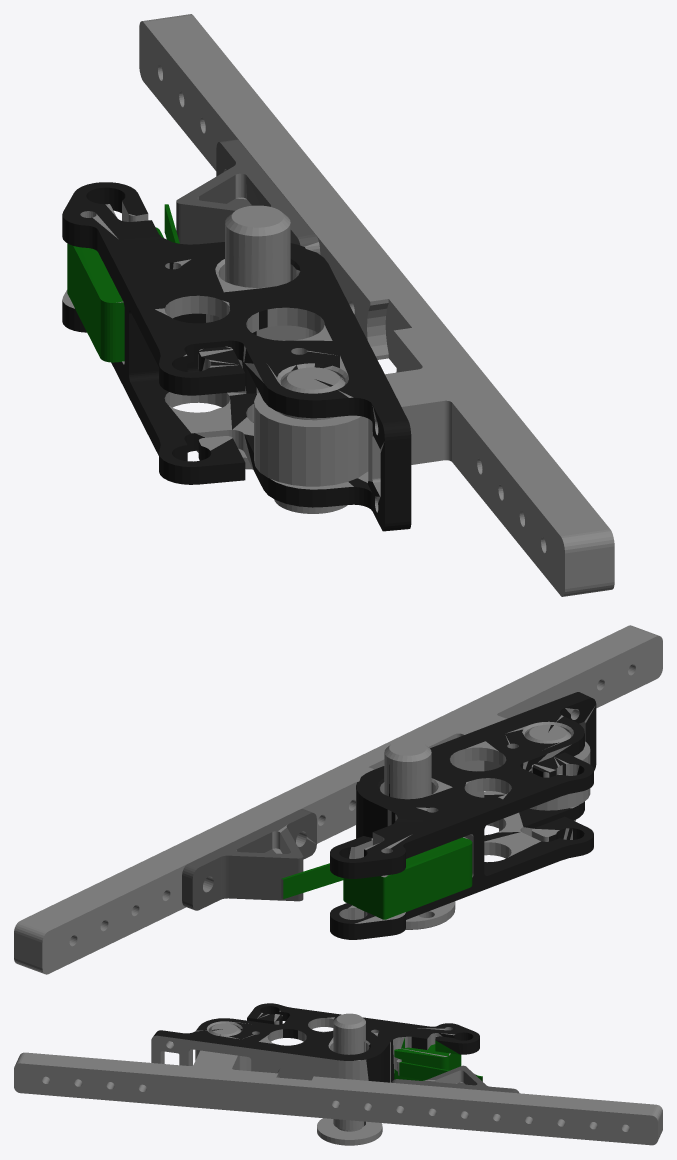
File: color_foot_R.obj
3 views of the same model, one above another, from view 1: azimuth 30°, elevation 25°; view 2: azimuth 150°, elevation 25°; view 3: azimuth 270°, elevation 25° (orthographic). The views are drawn at different scales.
Visible parts, largest first — view 1: updated_foot_L_dae_updated_foot_L.dae; view 2: updated_foot_L_dae_updated_foot_L.dae; view 3: updated_foot_L_dae_updated_foot_L.dae.
Part boxes in pixels (x1,y1,x2,y2): updated_foot_L_dae_updated_foot_L.dae: (62, 14, 614, 596); updated_foot_L_dae_updated_foot_L.dae: (14, 625, 662, 974); updated_foot_L_dae_updated_foot_L.dae: (14, 1003, 662, 1145).
Bounding box in the file's own units: 0.0728 × 0.038 × 0.1978.
